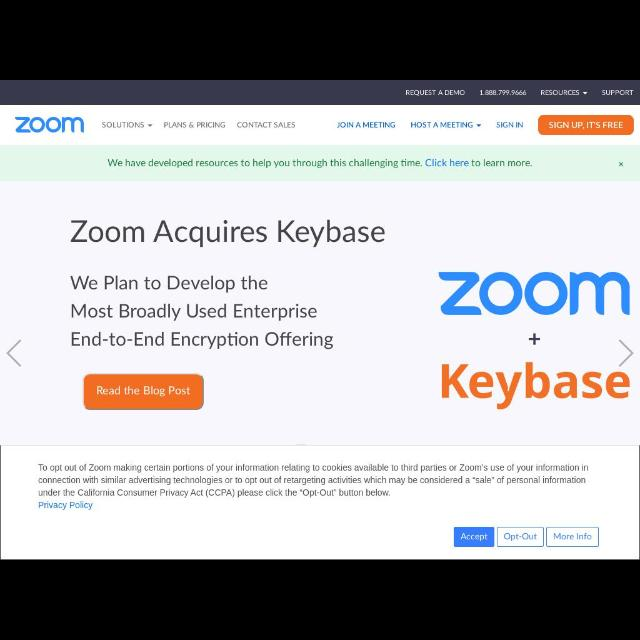icon: (7, 338, 23, 368), (618, 338, 634, 368), (618, 160, 624, 170), (146, 122, 154, 128), (582, 90, 588, 96), (476, 124, 482, 128)
image: (440, 268, 630, 404), (15, 115, 85, 134)
multitab: (1, 80, 639, 104)
spinner: (408, 120, 482, 132), (100, 118, 154, 132), (540, 87, 588, 97)
text: (38, 462, 588, 511), (69, 274, 335, 352), (70, 220, 386, 246), (108, 157, 532, 170), (97, 384, 191, 398), (548, 121, 624, 131), (162, 120, 225, 130), (410, 120, 472, 130), (338, 120, 397, 130), (405, 89, 465, 98), (236, 121, 298, 129), (479, 88, 526, 98), (102, 122, 144, 130), (540, 88, 580, 96), (494, 121, 524, 131), (602, 88, 632, 98), (554, 534, 590, 542), (504, 533, 538, 541), (460, 533, 488, 541)
textbutton: (84, 376, 204, 410), (540, 114, 632, 136), (548, 527, 598, 547), (498, 528, 544, 546), (454, 528, 494, 546)
toolbar: (1, 106, 639, 144)
